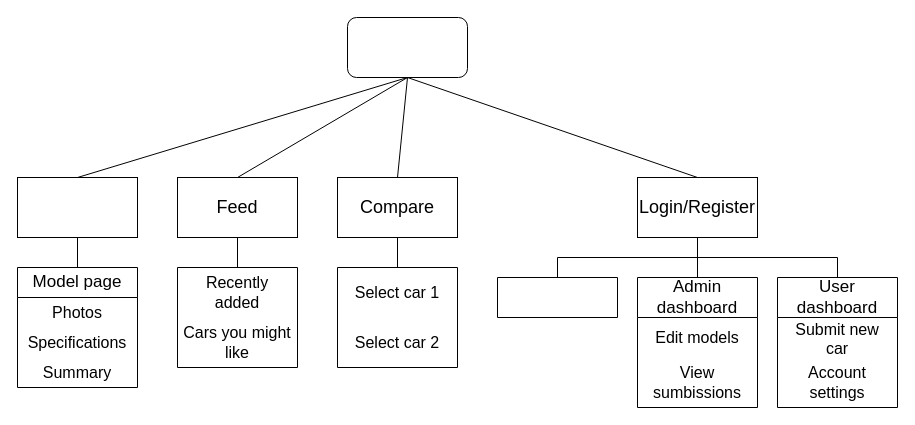
Some shapes in this 915 by 425 pixel diagram are drawn without their labels. Here are the shapes that lost their labels. From the top down, the centre of each, then its label:
At pixel 407 47: "Home".
At pixel 77 207: "Vehicle search".
At pixel 557 297: "Register".
